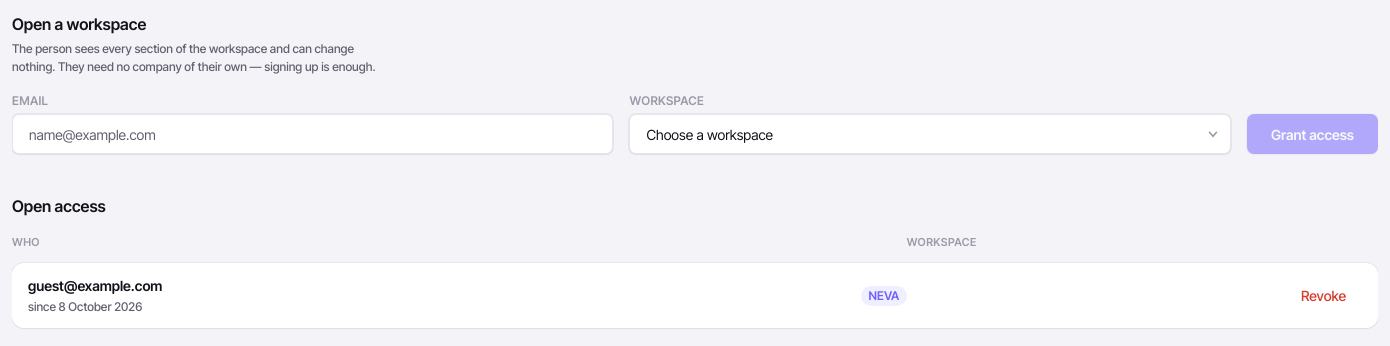
Scenario: ProfileGuestsView › drops a closed grant from the list
Click the button with class "ui-btn--danger" at (1323, 295), box [1285, 277, 1362, 313]
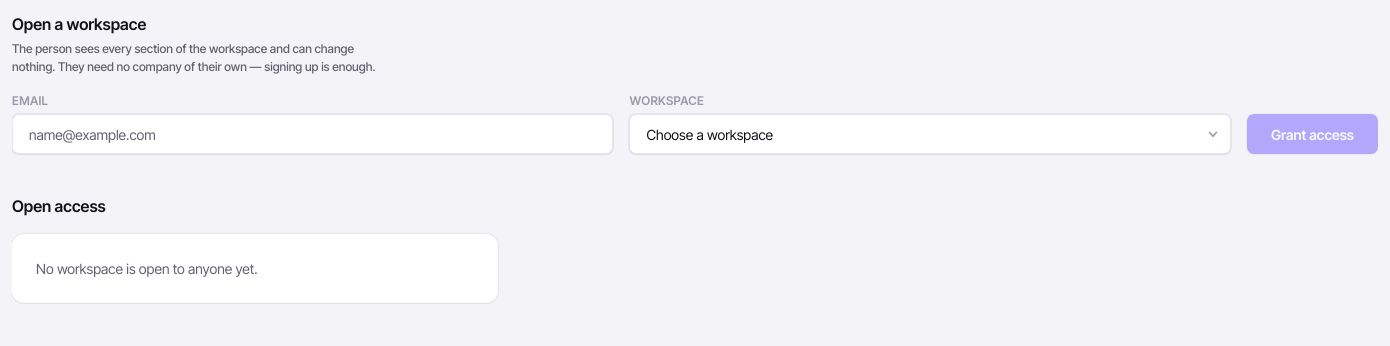
Expected: the text "guest@example.com" is gone
